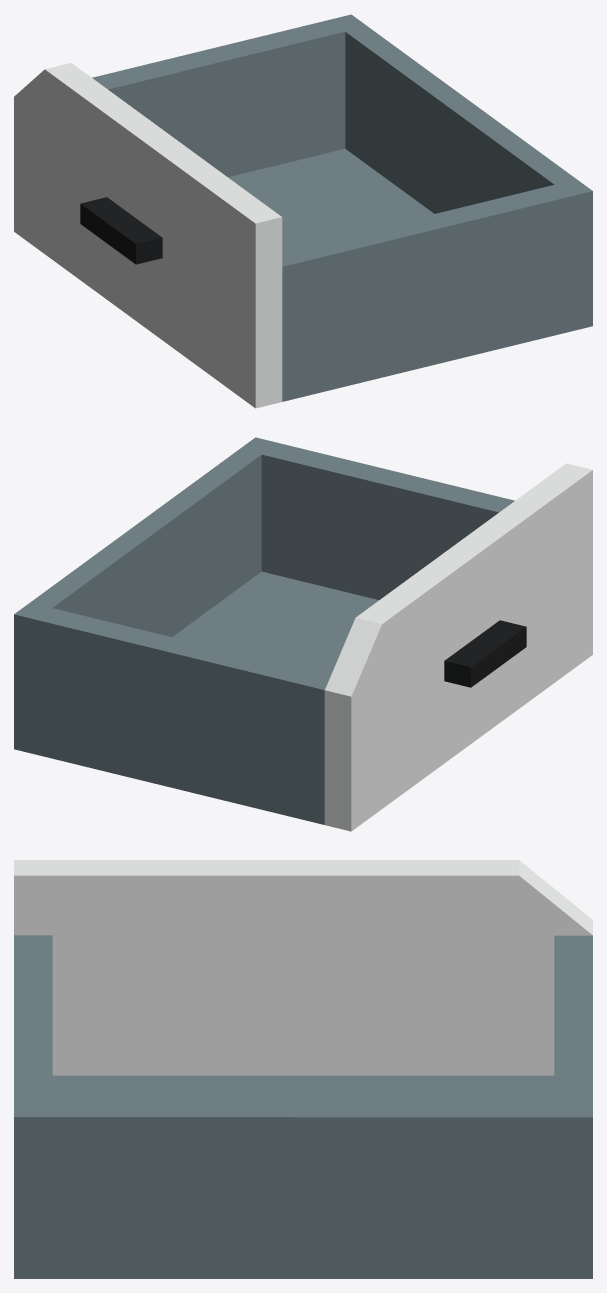
The model's file is Drawer.fbx.
The picture shows the model from 3 angles, top to bottom: view 1: azimuth 30°, elevation 25°; view 2: azimuth 150°, elevation 25°; view 3: azimuth 270°, elevation 25°; orthographic projection. The views are drawn at different scales.
Parts seen in each view (by area): view 1: pCube48, pCube49; view 2: pCube48, pCube49; view 3: pCube48.
Boxes of the visible parts, x1=… form: pCube48: x1=14, y1=14, x2=592, y2=408; pCube49: x1=80, y1=197, x2=162, y2=264; pCube48: x1=14, y1=437, x2=592, y2=831; pCube49: x1=444, y1=620, x2=526, y2=687; pCube48: x1=14, y1=860, x2=592, y2=1278.
Bounding box in the file's own units: 11.97 × 5.81 × 13.76.
Materials: 1 (1 with a texture image).
